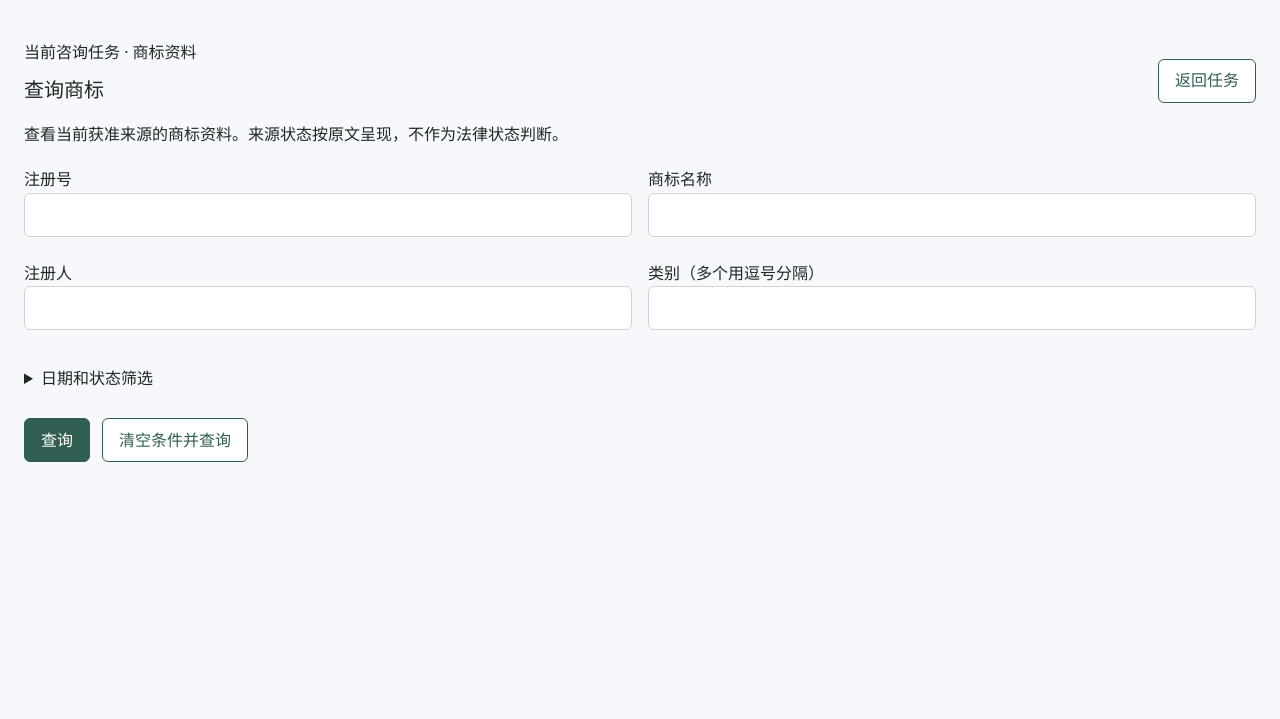
Test case: trademark filter, exact-version and current-display boundaries › returning to the Task cancels an outstanding detail and clears the visible list
The width and height of the screenshot is (1280, 719).
What coordinates should you click on to do the following:
click the button "查询"
I would click on:
 (57, 440)
Its box is [24, 418, 90, 462].
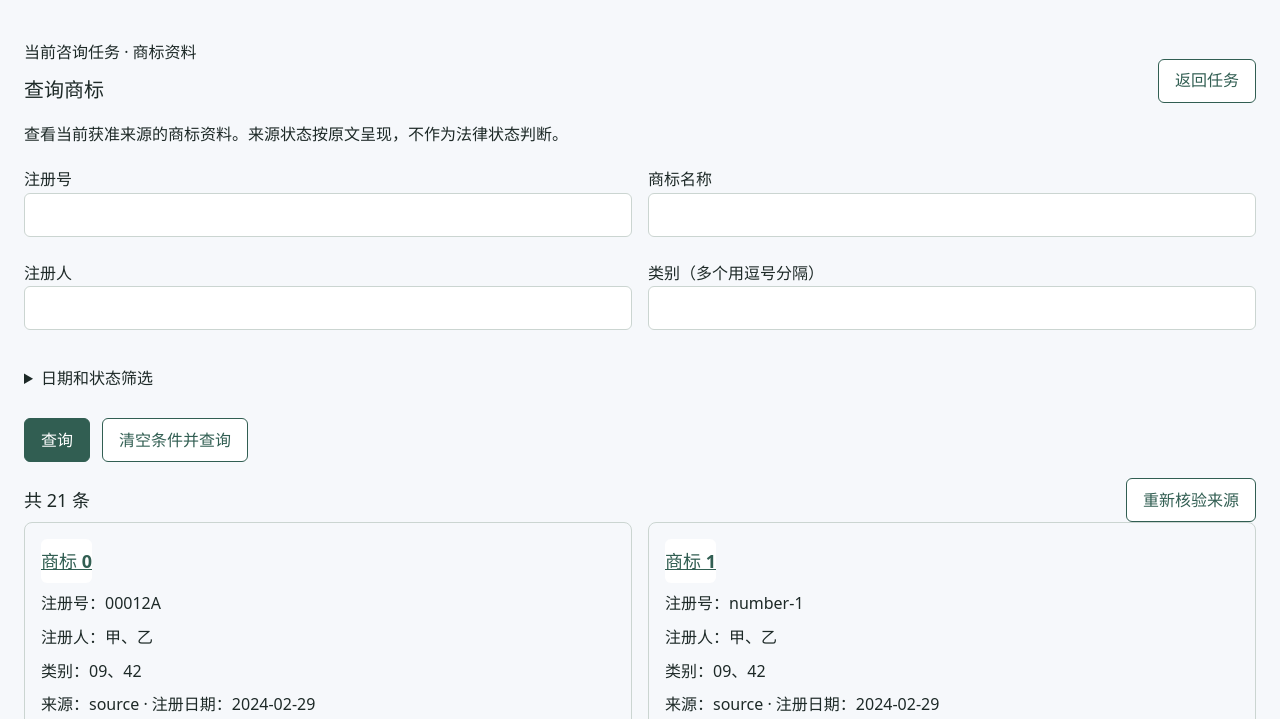
expect the heading "共 21 条" is shown: met, box [24, 486, 90, 515]
What coordinates should you click on to do the following:
click the button "商标 0"
I would click on:
 (66, 561)
Its box is [41, 539, 92, 583].
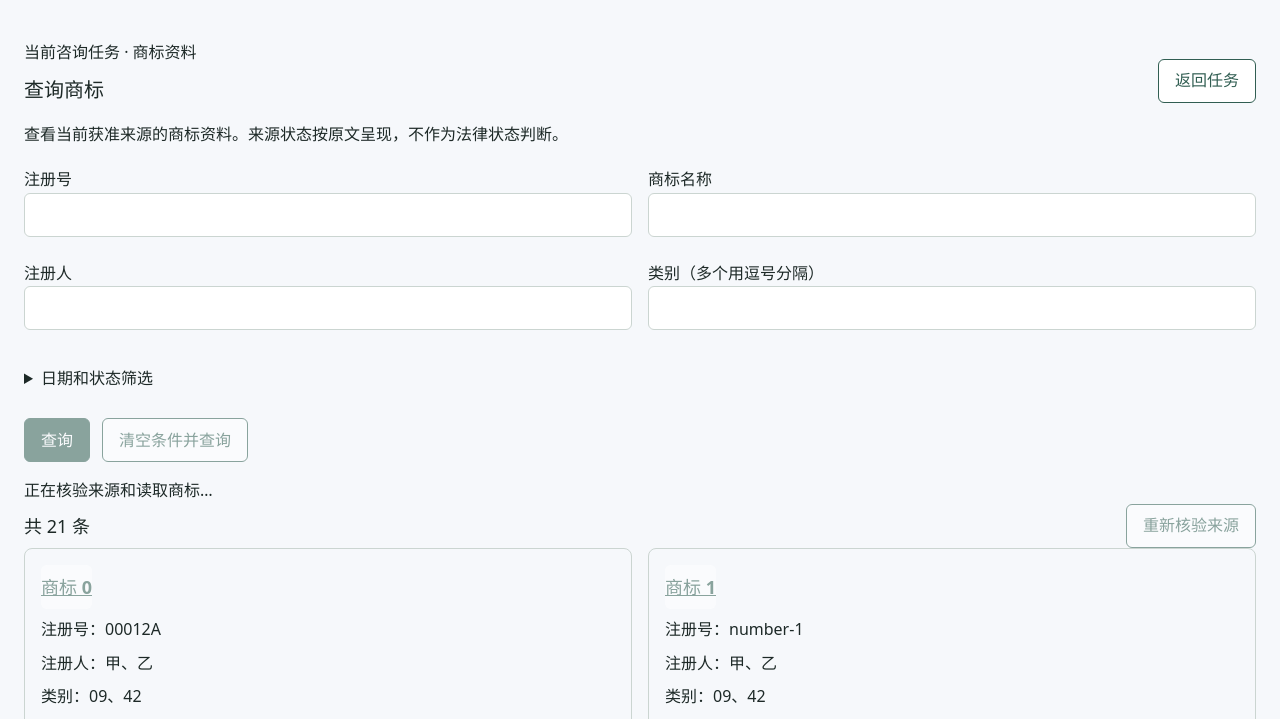
What coordinates should you click on to do the following:
click the button "返回任务"
I would click on:
 (1207, 81)
Its box is [1158, 59, 1256, 103].
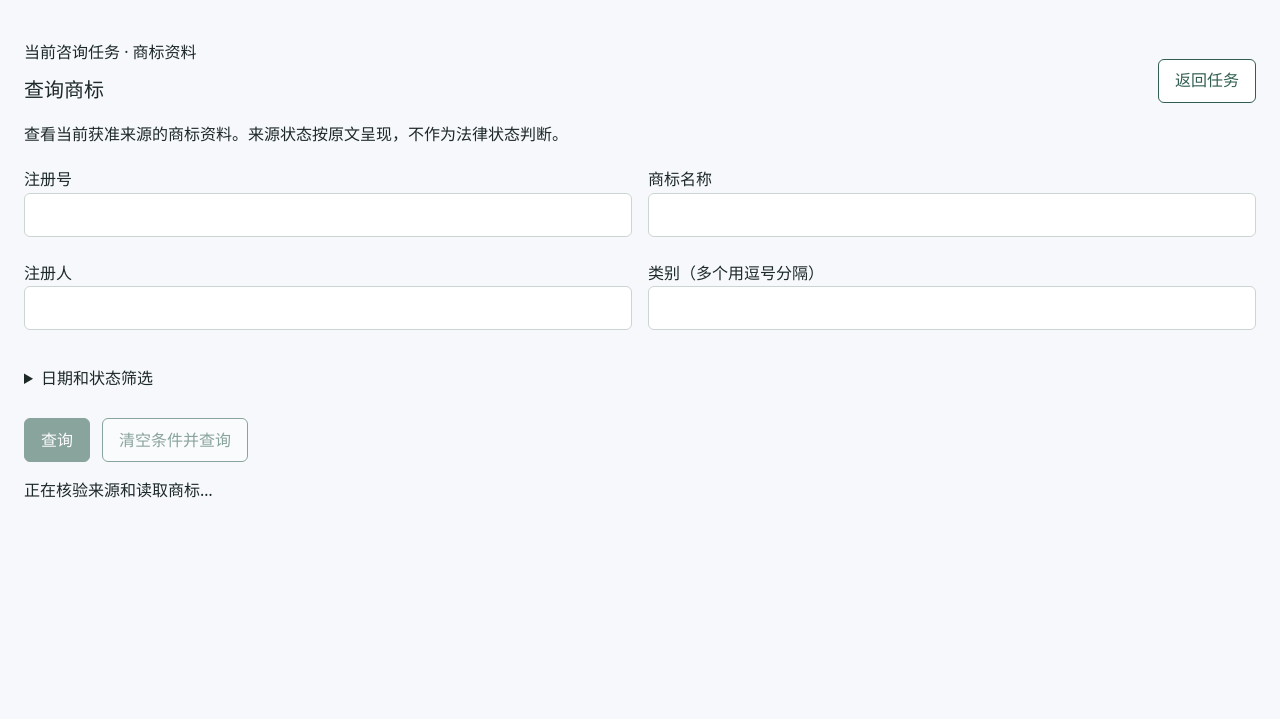
expect the heading "共 21 条" is gone: met
